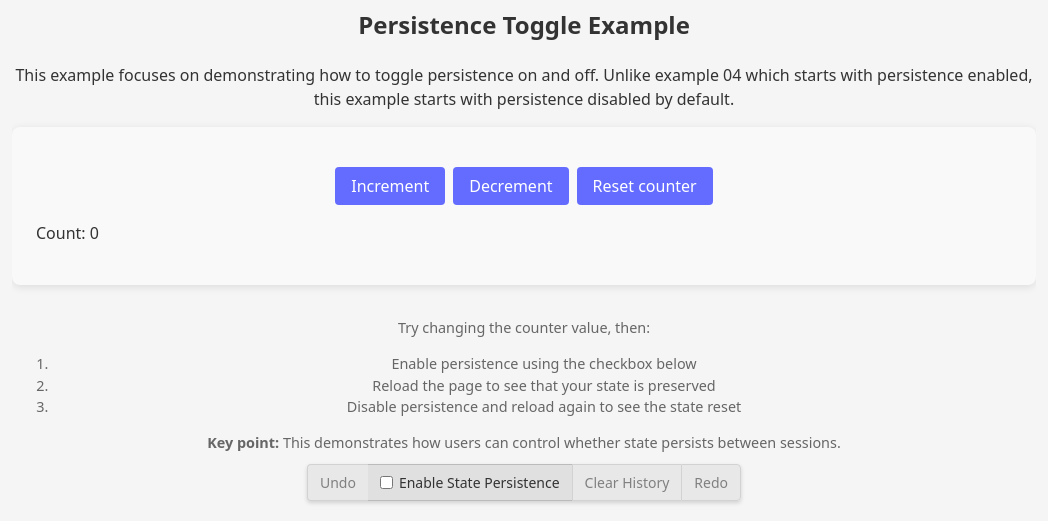
it: PersistentToggleCounter component › allows the counter to be incremented
# Increment counter
Click the button "Increment" at (390, 186), box [335, 167, 445, 205]
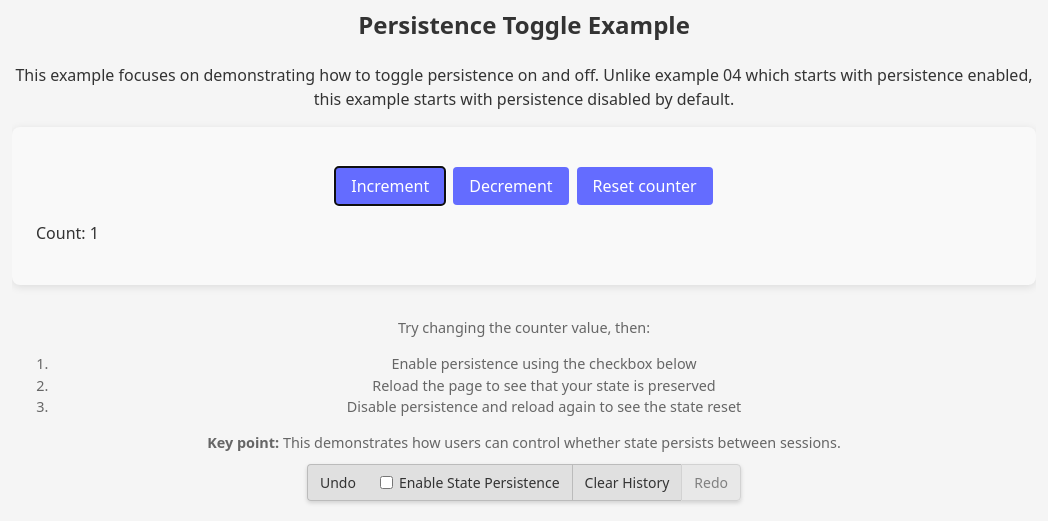
Expected: the text "Count: 1" is shown, [36, 222, 99, 244]
